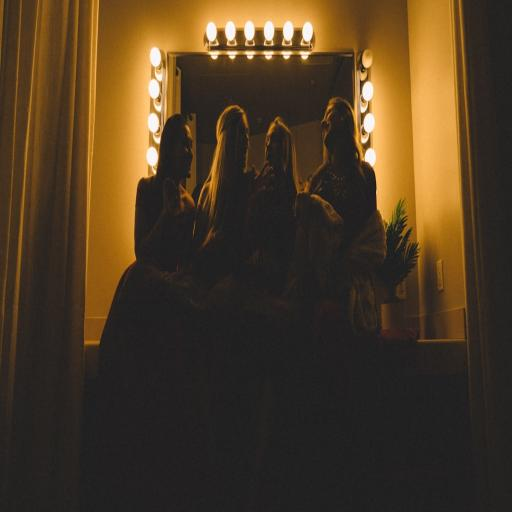face: (173, 125, 193, 180), (321, 106, 343, 151), (265, 122, 283, 172), (235, 115, 249, 172)
